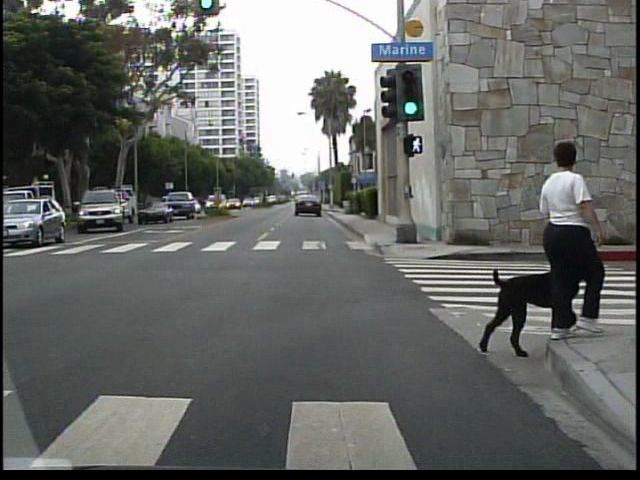person: (533, 140, 610, 339)
